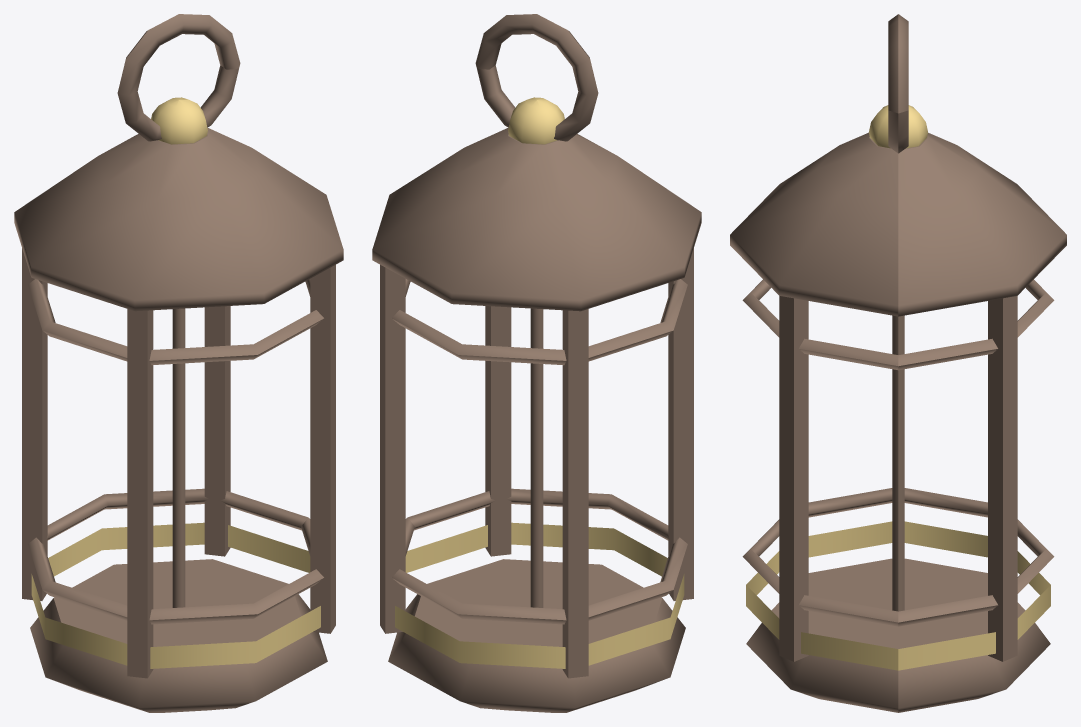
File: laterne.glb
3 views of the same model, side by side, from view 1: azimuth 30°, elevation 25°; view 2: azimuth 150°, elevation 25°; view 3: azimuth 270°, elevation 25° (orthographic).
Visible parts, largest first — view 1: G_laterne; view 2: G_laterne; view 3: G_laterne.
Part boxes in pixels (left/top/right/bottom): G_laterne: left=14, top=14, right=343, bottom=712; G_laterne: left=372, top=14, right=701, bottom=712; G_laterne: left=730, top=14, right=1066, bottom=712.
Size of the model in its own units: 0.567 by 1.24 by 0.567.
